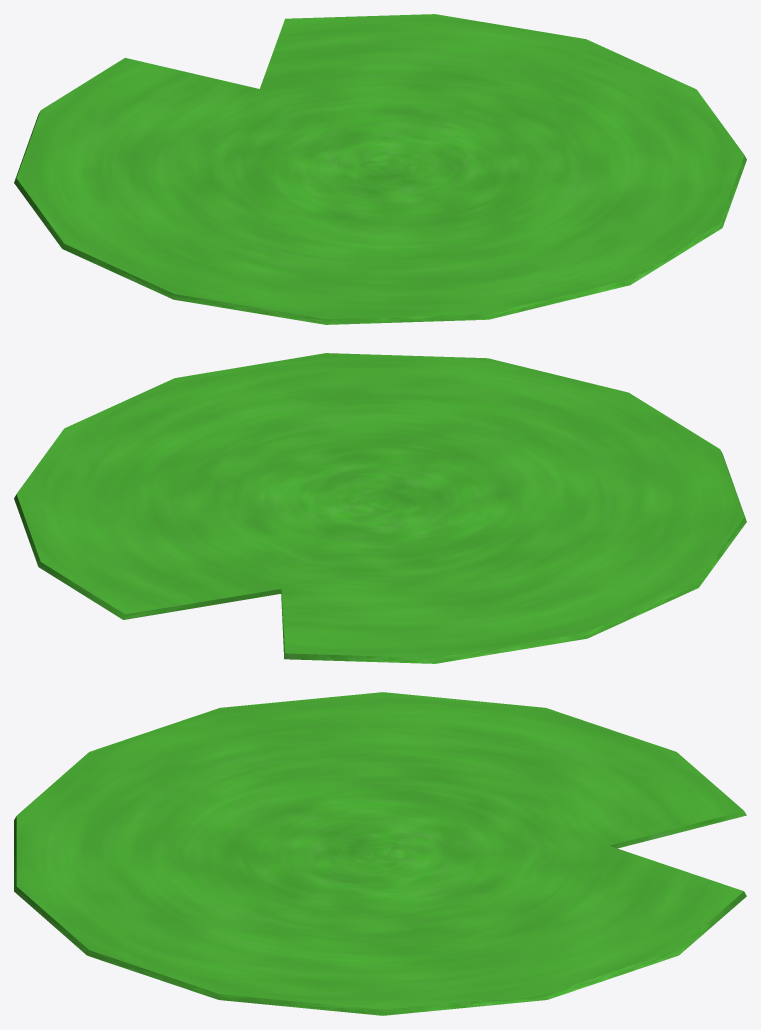
File: lilypad_collider_export.fbx
3 views of the same model, one above another, from view 1: azimuth 30°, elevation 25°; view 2: azimuth 150°, elevation 25°; view 3: azimuth 270°, elevation 25° (orthographic). The views are drawn at different scales.
Visible parts, largest first — view 1: lilypad; view 2: lilypad; view 3: lilypad.
Boxes of the visible parts, x1,y1,x2,y2 form: lilypad: (14,14,746,324); lilypad: (14,353,746,663); lilypad: (14,692,746,1015).
Bounding box in the file's own units: 12.3 × 0.103 × 11.91.
